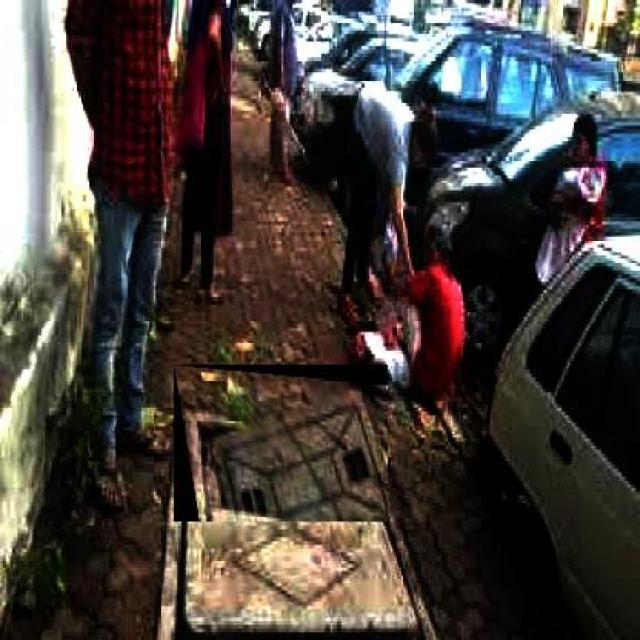Manhole: (169, 364, 388, 522), (136, 527, 442, 638)
